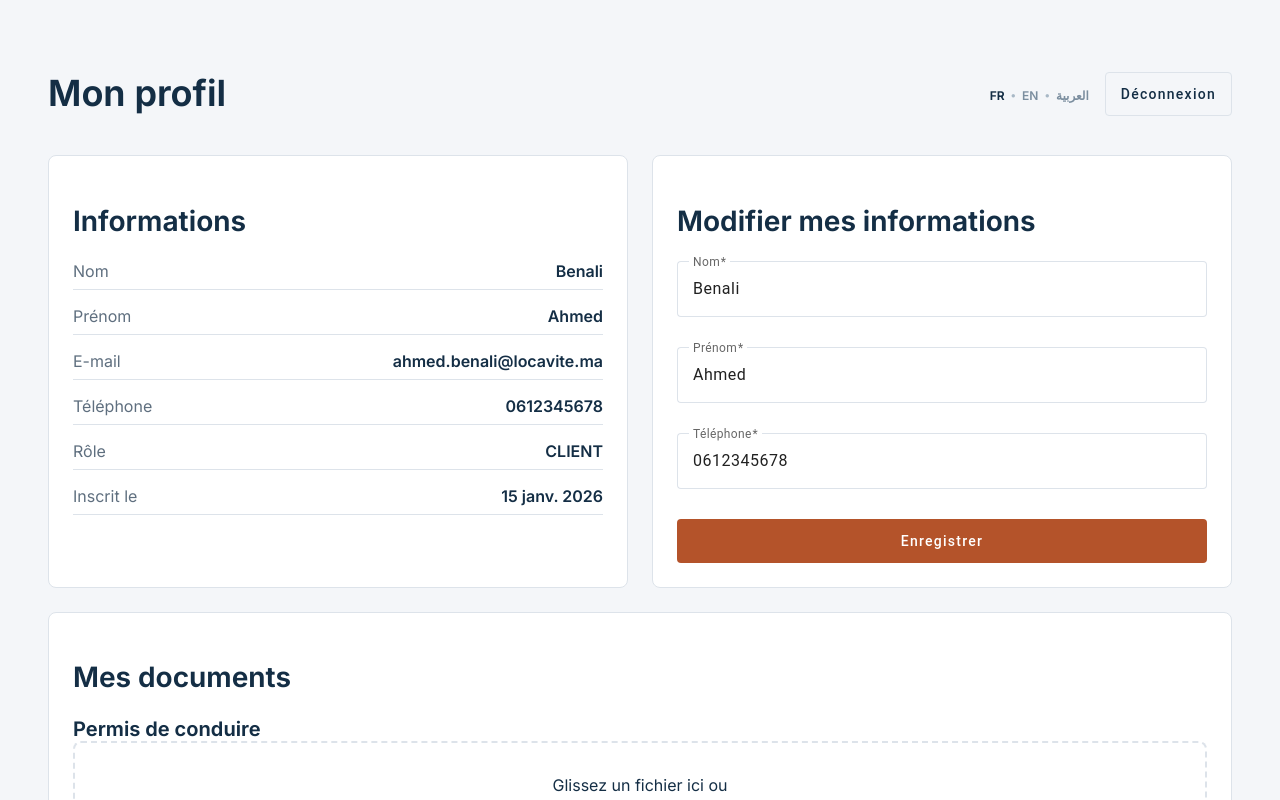
Test: Profil client (Angular) › modification du profil avec message de succès
Replace the text in the field named "firstName" with "Karim". click: (942, 375)
box: [693,363,1191,387]
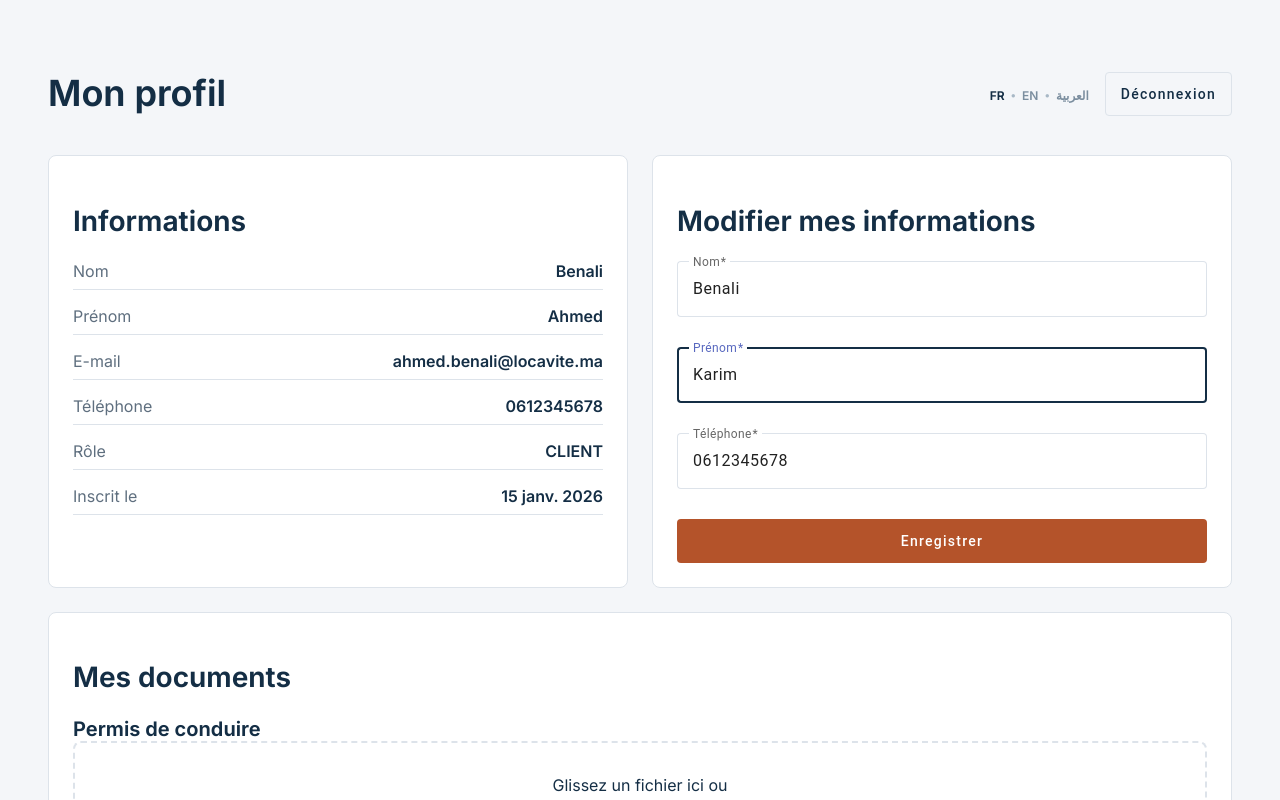
Replace the text in the field named "phone" with "0698765432". click: (942, 461)
box: [693,449,1191,473]
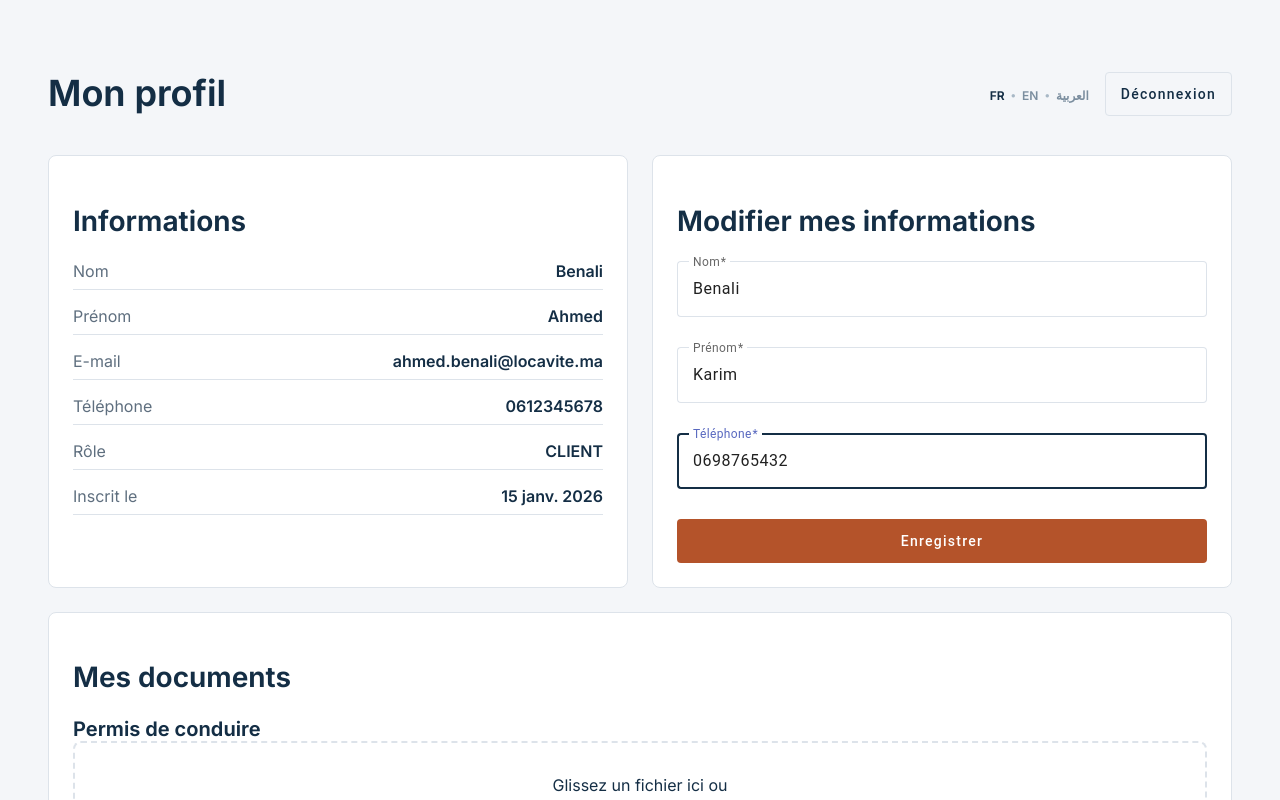
Click the button "Enregistrer". click: click(942, 541)
box: [677,519,1207,563]
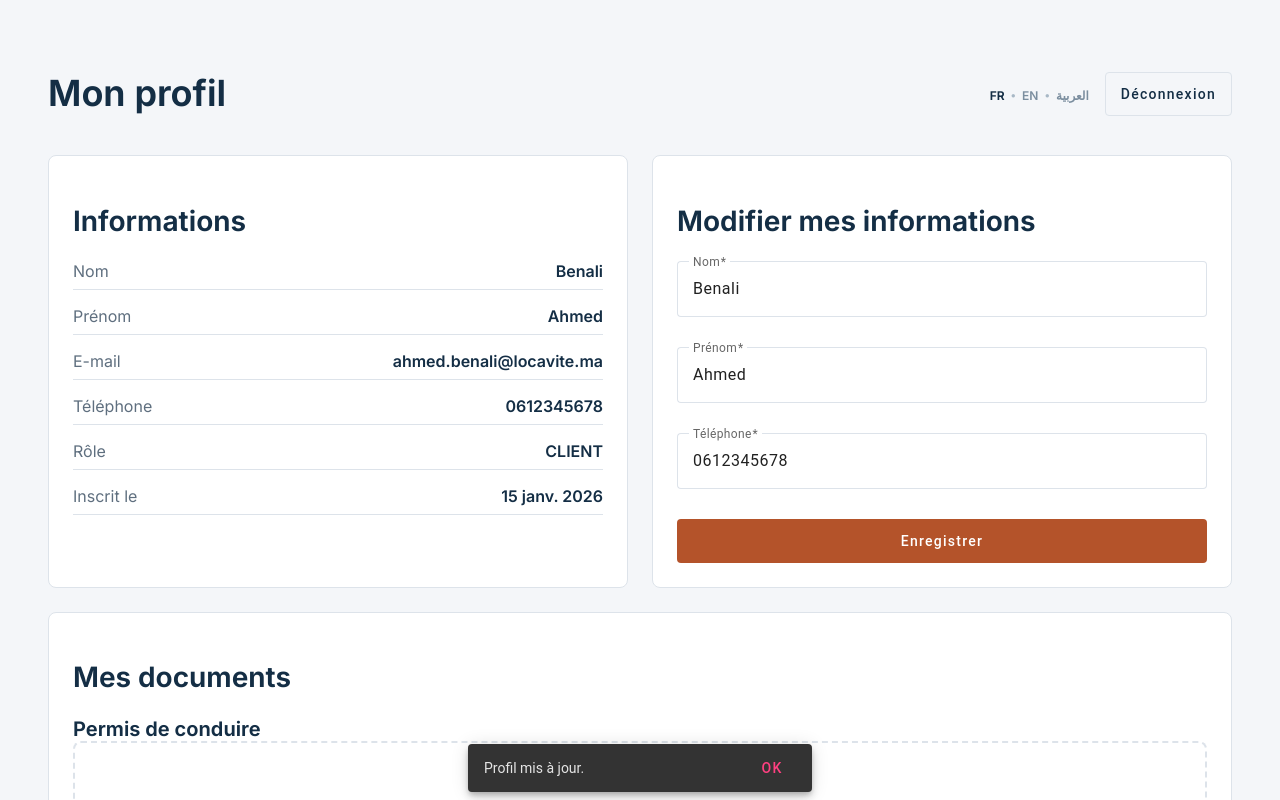
Now the text "Profil mis à jour." is shown, box [484,760,584,776]
